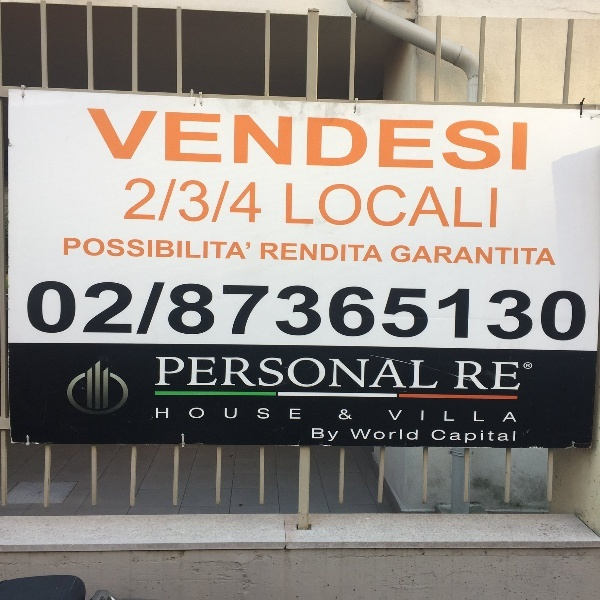text: (97, 107, 112, 175), (113, 107, 128, 175), (129, 107, 144, 175), (145, 107, 160, 175), (161, 107, 176, 175), (177, 107, 192, 175), (193, 107, 208, 175), (209, 107, 224, 175), (225, 107, 240, 175), (241, 107, 256, 175), (257, 107, 272, 175), (273, 107, 288, 175), (289, 107, 304, 175), (305, 107, 320, 175), (321, 107, 336, 175), (337, 107, 352, 175), (353, 107, 368, 175), (369, 107, 384, 175), (385, 107, 400, 175), (401, 107, 416, 175), (417, 107, 432, 175), (433, 107, 448, 175), (449, 107, 464, 175), (465, 107, 480, 175), (481, 107, 496, 175), (497, 107, 512, 175), (513, 107, 528, 175), (33, 277, 48, 345), (49, 277, 64, 345), (65, 277, 80, 345), (81, 277, 96, 345), (97, 277, 112, 345), (113, 277, 128, 345), (129, 277, 144, 345), (145, 277, 160, 345), (161, 277, 176, 345), (177, 277, 192, 345), (193, 277, 208, 345), (209, 277, 224, 345), (225, 277, 240, 345), (241, 277, 256, 345), (257, 277, 272, 345), (273, 277, 288, 345), (289, 277, 304, 345), (305, 277, 320, 345), (321, 277, 336, 345), (337, 277, 352, 345), (353, 277, 368, 345), (369, 277, 384, 345), (385, 277, 400, 345), (401, 277, 416, 345), (417, 277, 432, 345), (433, 277, 448, 345), (449, 277, 464, 345), (465, 277, 480, 345), (481, 277, 496, 345), (497, 277, 512, 345), (513, 277, 528, 345), (529, 277, 544, 345), (545, 277, 560, 345), (561, 277, 576, 345), (577, 277, 589, 345), (129, 177, 144, 226), (145, 177, 160, 226), (161, 177, 176, 226), (177, 177, 192, 226), (193, 177, 208, 226), (209, 177, 224, 226), (225, 177, 240, 226), (241, 177, 256, 226), (289, 183, 304, 231), (305, 183, 320, 231), (321, 183, 336, 231), (337, 183, 352, 231), (353, 183, 368, 231), (369, 183, 384, 231), (385, 183, 400, 231), (401, 183, 416, 231), (417, 183, 432, 231), (433, 183, 448, 231), (449, 183, 464, 231), (465, 183, 480, 231), (481, 183, 496, 231), (86, 107, 96, 175), (161, 356, 176, 391), (177, 356, 192, 391), (193, 356, 208, 391), (209, 356, 224, 391), (225, 356, 240, 391), (241, 356, 256, 391), (257, 356, 272, 391), (273, 356, 288, 391), (289, 356, 304, 391), (305, 356, 320, 391), (321, 356, 336, 391), (337, 356, 352, 391), (353, 356, 368, 391), (369, 356, 384, 391), (385, 356, 400, 391), (401, 356, 416, 391), (417, 356, 432, 391), (433, 356, 447, 391), (465, 361, 480, 392), (481, 361, 496, 392), (497, 361, 512, 392), (65, 237, 80, 262), (81, 237, 96, 262), (97, 237, 112, 262), (113, 237, 128, 262), (129, 237, 144, 262), (145, 237, 160, 262), (161, 237, 176, 262), (177, 237, 192, 262), (193, 237, 208, 262), (209, 237, 224, 262), (225, 237, 240, 262), (401, 244, 416, 268), (417, 244, 432, 268), (433, 244, 448, 268), (449, 244, 464, 268), (465, 244, 480, 268), (481, 244, 496, 268), (497, 244, 512, 268), (513, 244, 528, 268), (529, 244, 544, 268), (27, 277, 32, 345), (545, 244, 558, 268), (273, 243, 288, 263), (289, 243, 304, 263), (305, 243, 320, 263), (321, 243, 336, 263), (337, 243, 352, 263), (353, 243, 368, 263), (369, 243, 384, 263), (257, 177, 263, 226), (455, 361, 464, 392), (241, 237, 251, 262), (513, 361, 521, 392), (321, 426, 336, 442), (261, 243, 272, 263), (391, 244, 400, 268), (401, 409, 416, 423), (417, 409, 432, 423), (433, 409, 448, 423), (449, 409, 464, 423), (465, 409, 480, 423), (481, 409, 496, 423), (497, 409, 512, 423), (433, 430, 448, 444), (449, 430, 464, 444), (465, 430, 480, 444), (481, 430, 496, 444), (497, 430, 512, 444), (161, 407, 176, 420), (177, 407, 192, 420), (193, 407, 208, 420), (209, 407, 224, 420), (225, 407, 240, 420), (241, 407, 256, 420), (257, 407, 272, 420), (273, 407, 288, 420), (353, 428, 368, 441), (369, 428, 384, 441), (385, 428, 400, 441), (401, 428, 416, 441), (387, 409, 400, 423), (155, 356, 160, 391), (289, 407, 301, 420), (125, 177, 128, 226), (285, 183, 288, 231), (529, 107, 531, 175), (340, 409, 352, 420), (312, 426, 320, 442), (497, 183, 499, 231), (513, 409, 518, 423), (513, 430, 517, 444), (156, 407, 160, 420), (337, 426, 339, 442), (350, 428, 352, 441), (431, 430, 432, 444), (417, 428, 418, 441), (353, 409, 354, 420), (526, 364, 528, 368), (529, 364, 530, 368)
